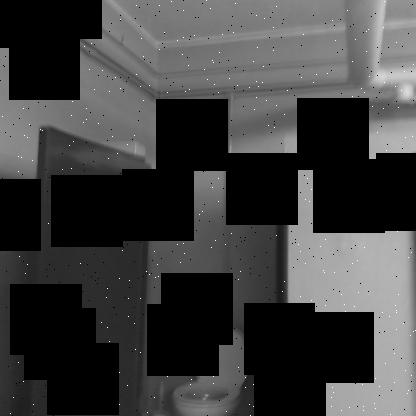Porte: (24, 126, 288, 415)
